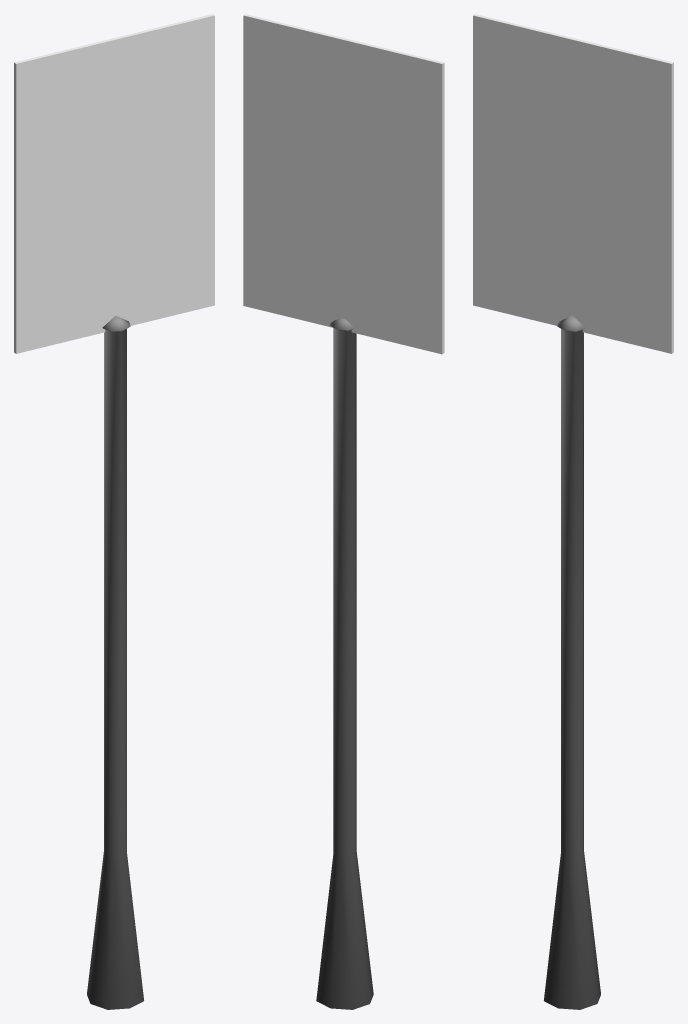
File: Busway.fbx
3 renders of one model, left to right at view 1: azimuth 30°, elevation 25°; view 2: azimuth 150°, elevation 25°; view 3: azimuth 330°, elevation 25°, orthographic.
Visible parts, largest first — view 1: Busway; view 2: Busway; view 3: Busway.
Boxes of the visible parts, bbox=[...] form: Busway: bbox=[14, 14, 214, 1009]; Busway: bbox=[243, 14, 444, 1009]; Busway: bbox=[473, 14, 673, 1009].
Bounding box in the file's own units: 124 × 573 × 31.31.
